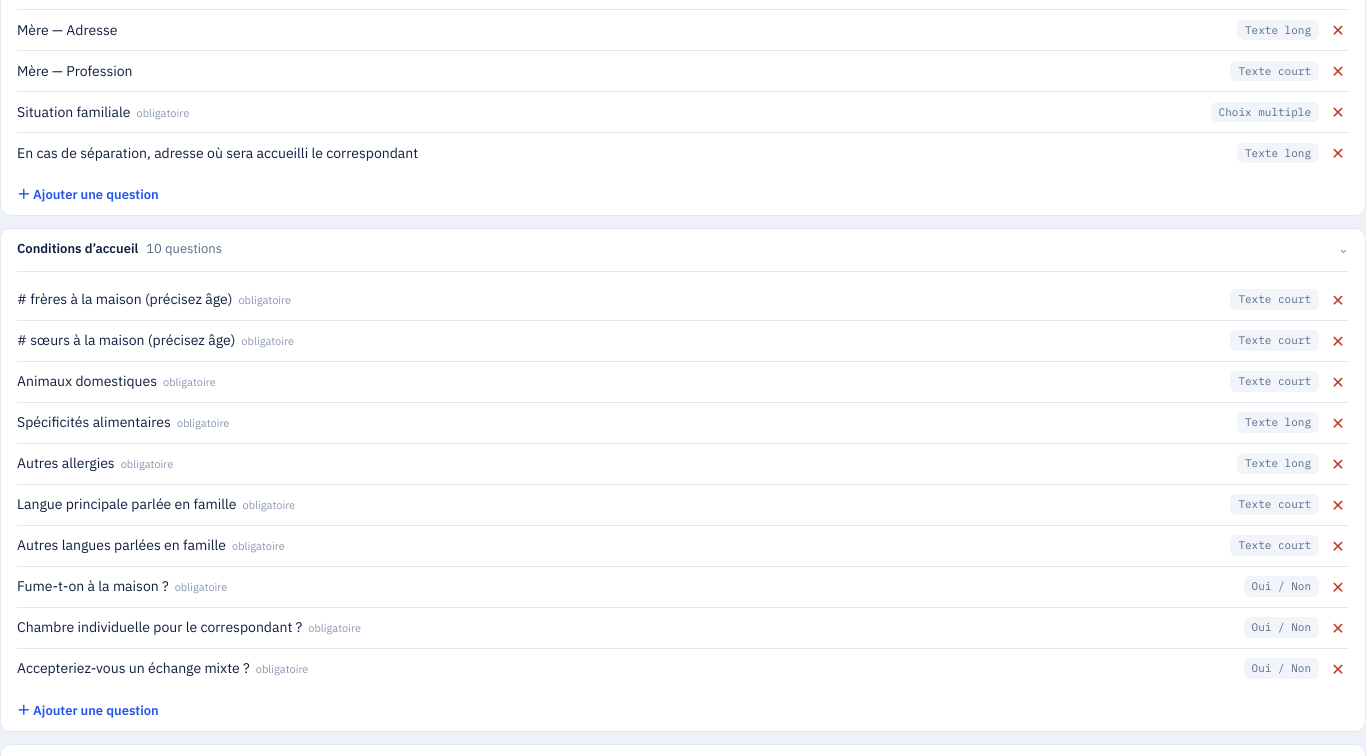
it: QuestionnaireEditor › persists a removal immediately — there is no save button
(page scrolled)
What coordinates should you click on to do the following:
click the button named "Retirer — Animaux domestiques"
I would click on:
 (1338, 382)
Its box is [1327, 370, 1349, 394].
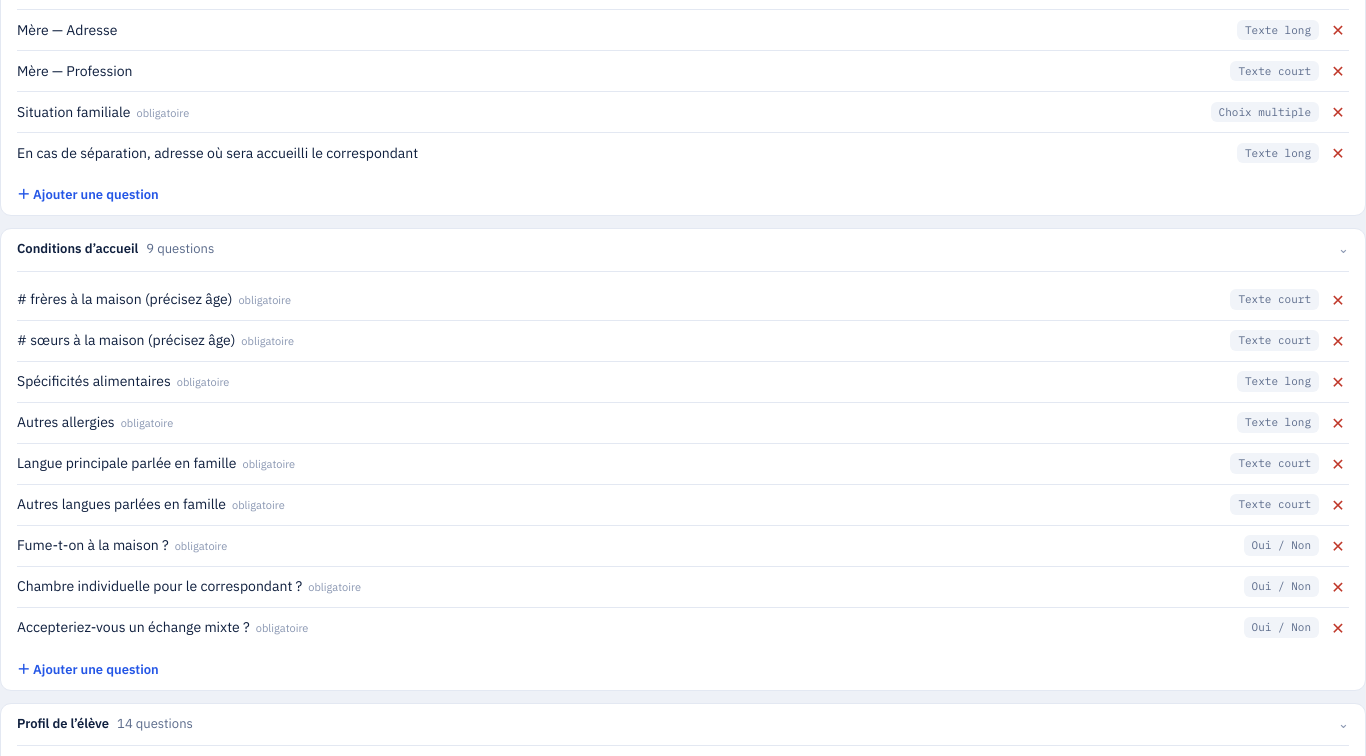
Now the text "9 questions" is shown, box [146, 239, 214, 258]
